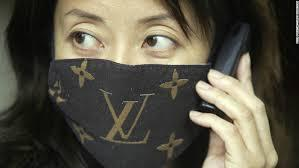mask: (42, 51, 222, 168)
